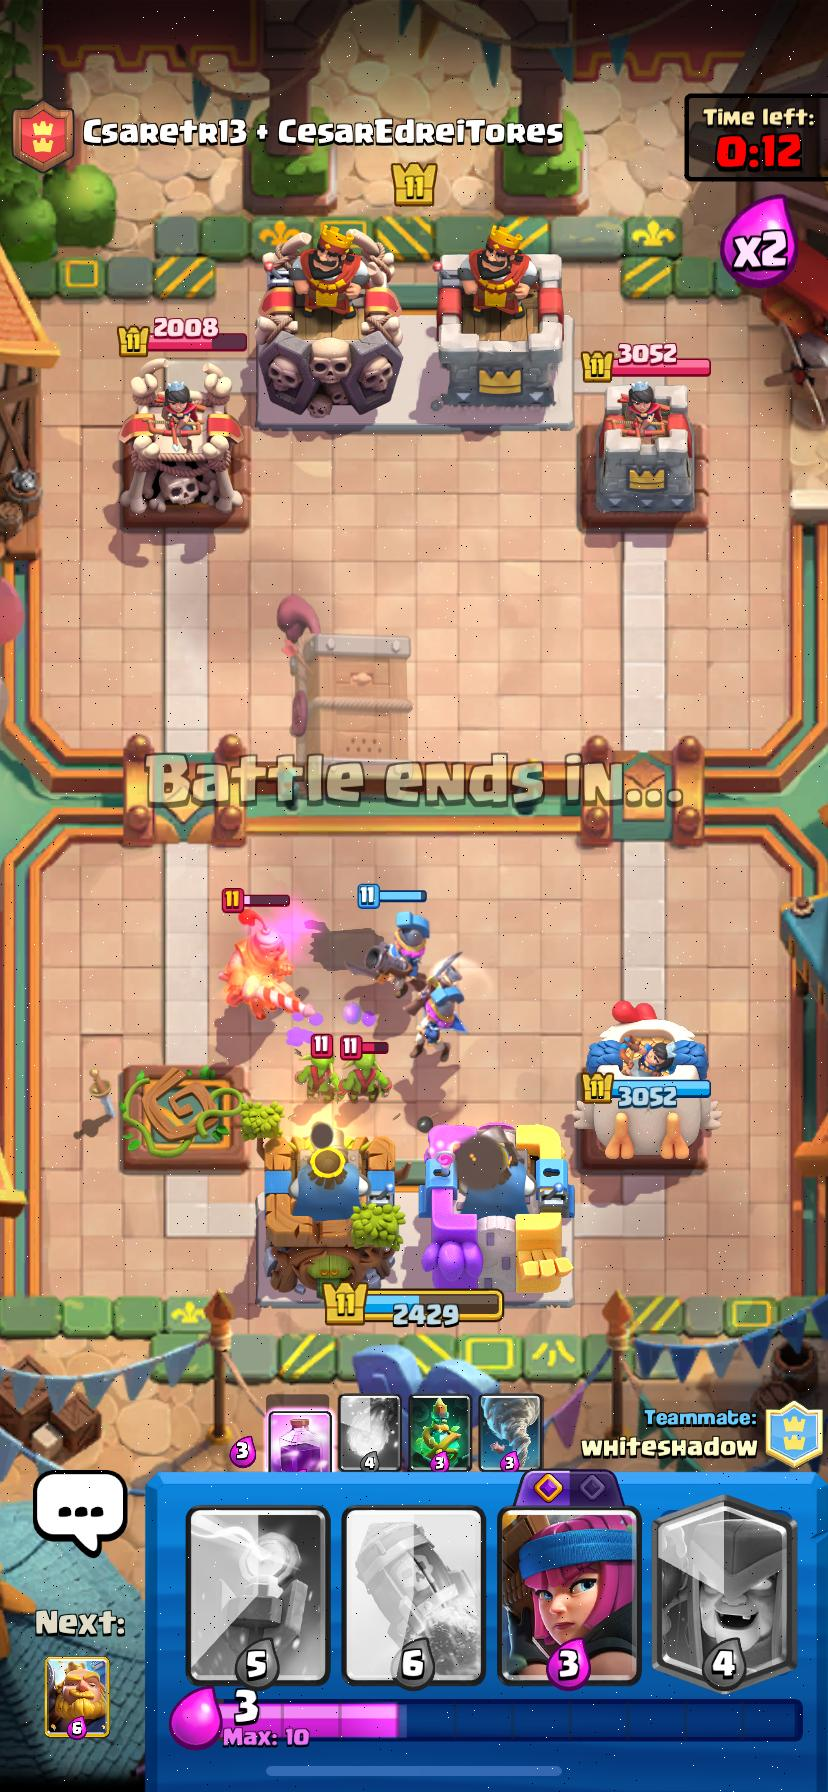EGoblin: (339, 1035, 391, 1102), (296, 1032, 339, 1102)
EKingTower: (256, 226, 403, 421), (431, 247, 571, 417)
EPrince: (218, 903, 318, 1019)
EnemyPrincessTower: (120, 360, 242, 521), (583, 379, 694, 525)
OMuskNew: (412, 954, 467, 1057), (365, 911, 429, 998)
OwnKingTower: (419, 1123, 573, 1298), (265, 1125, 403, 1295)
OwnPrincessTower: (576, 1001, 710, 1167)
TowerDown: (120, 1066, 247, 1169)
